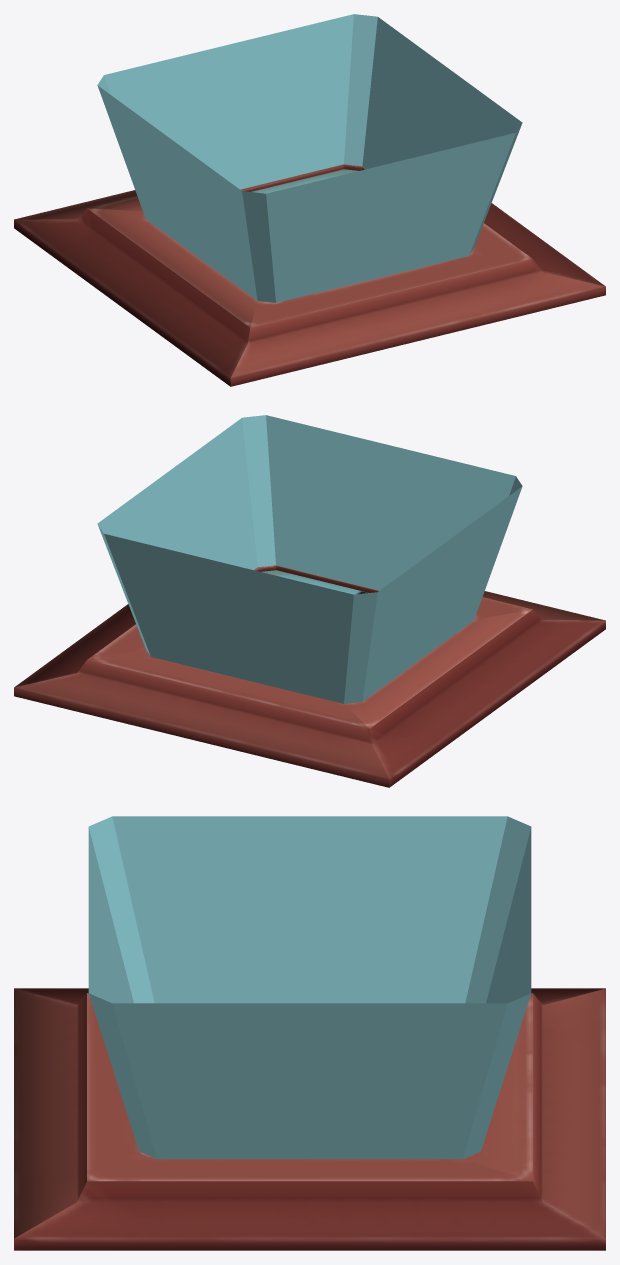
Rendered from a_SWApan_c.glb.
3 renders of one model, top to bottom at view 1: azimuth 30°, elevation 25°; view 2: azimuth 150°, elevation 25°; view 3: azimuth 270°, elevation 25°, orthographic. The views are drawn at different scales.
Visible parts, largest first — view 1: a_SWApan_c; view 2: a_SWApan_c; view 3: a_SWApan_c.
Boxes of the visible parts, x1,y1,x2,y2 form: a_SWApan_c: (14,14,605,386); a_SWApan_c: (14,415,605,787); a_SWApan_c: (14,816,605,1250).
Size of the model in its own units: 1 by 0.402 by 1.
Materials: 3 (3 with a texture image).
